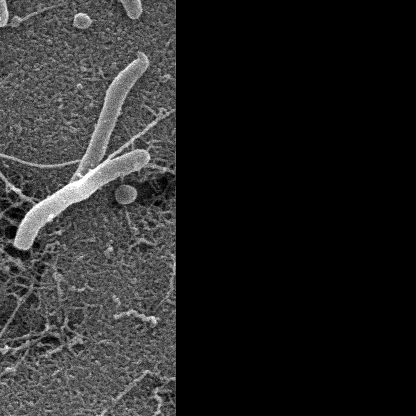cell2cell: (0, 151, 83, 173)
filament: (12, 151, 151, 247)
regular: (75, 54, 149, 179), (34, 0, 142, 19), (0, 0, 14, 30)
